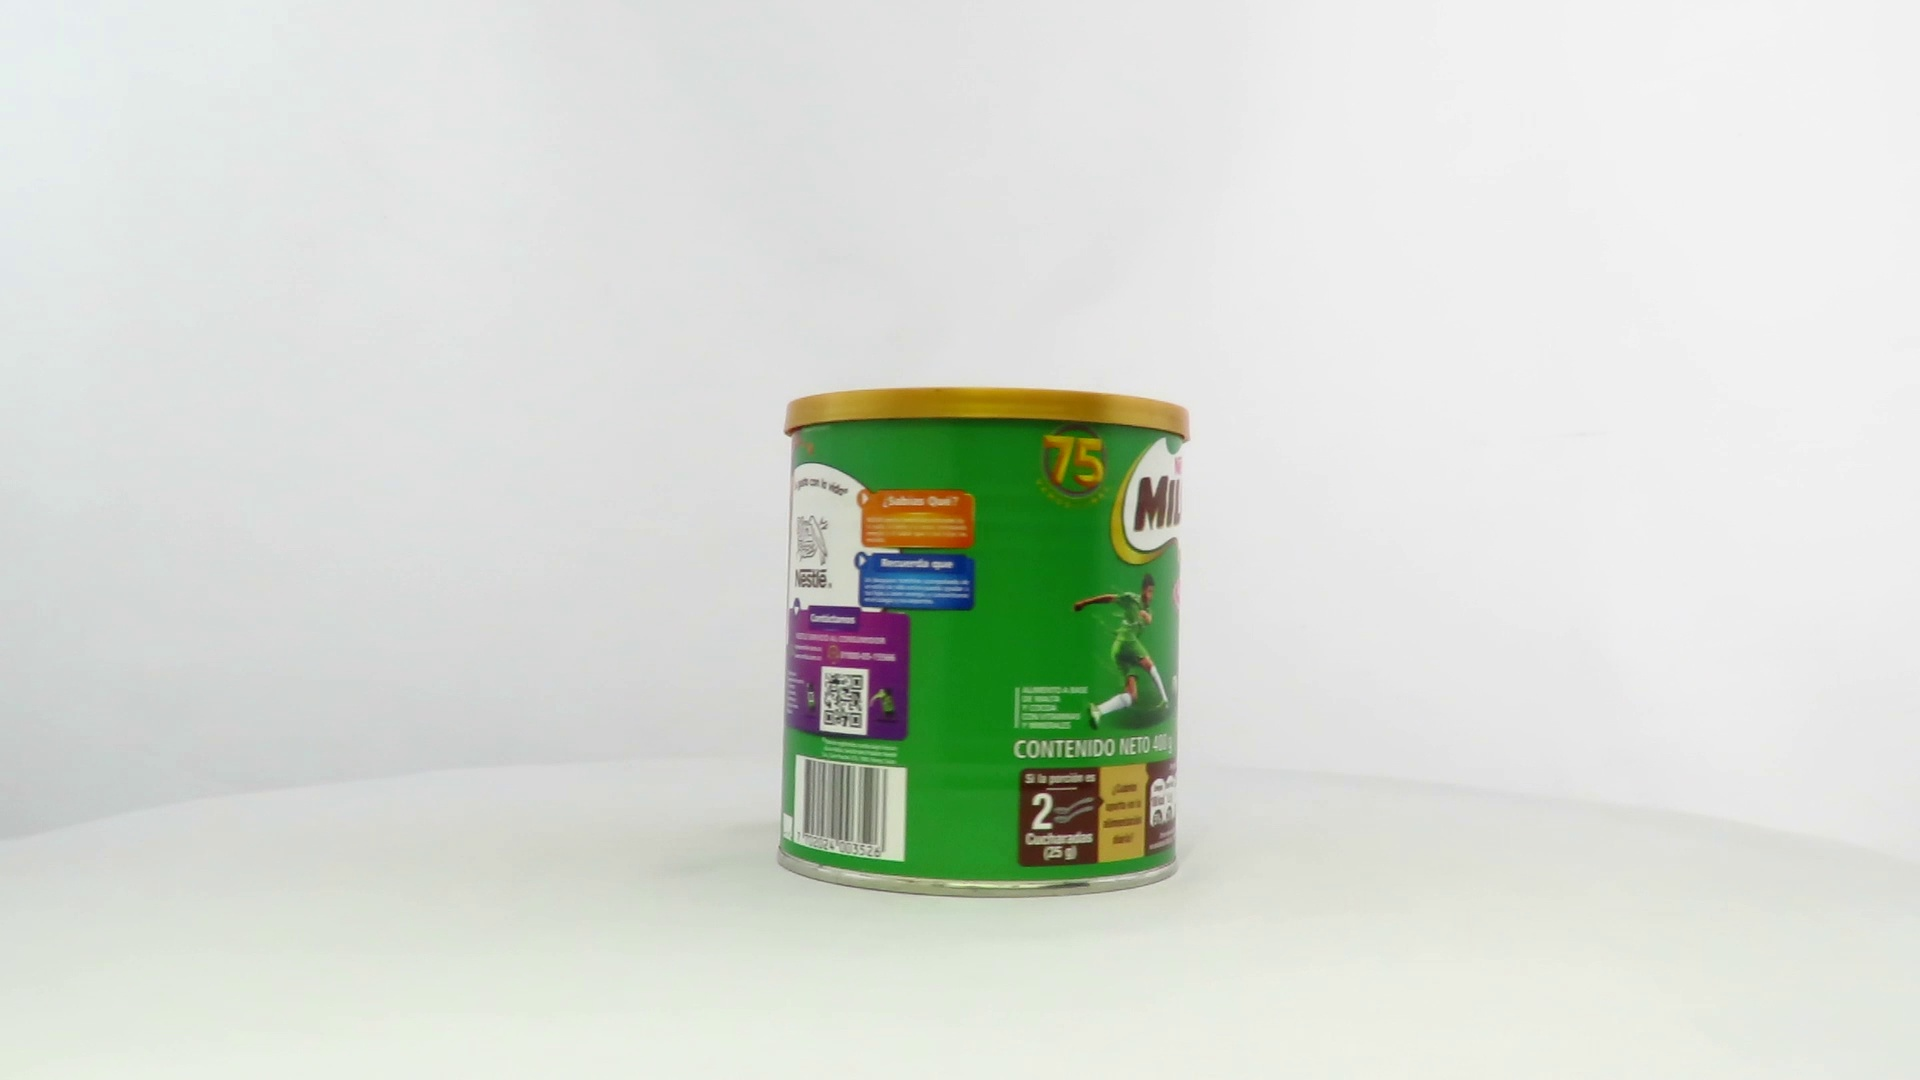COL0170203LAT40000: (771, 382, 1201, 905)
